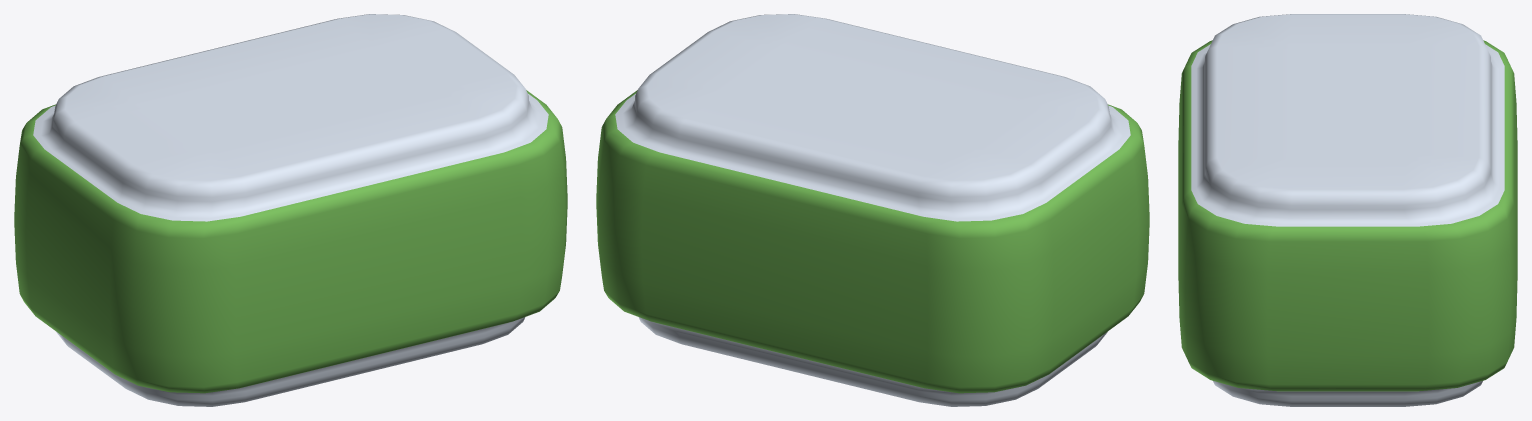
File: SM_Building_03_Version_01_Part_02.fbx
The picture shows the model from 3 angles, left to right: view 1: azimuth 30°, elevation 25°; view 2: azimuth 150°, elevation 25°; view 3: azimuth 270°, elevation 25°; orthographic projection. The views are drawn at different scales.
Visible parts, largest first — view 1: SM_Building_03_Version_01_Part_02; view 2: SM_Building_03_Version_01_Part_02; view 3: SM_Building_03_Version_01_Part_02.
Part boxes in pixels (x1,y1,x2,y2): SM_Building_03_Version_01_Part_02: [14, 14, 567, 406]; SM_Building_03_Version_01_Part_02: [596, 14, 1149, 406]; SM_Building_03_Version_01_Part_02: [1178, 14, 1517, 406].
Bounding box in the file's own units: 4428 × 2142 × 3032.
